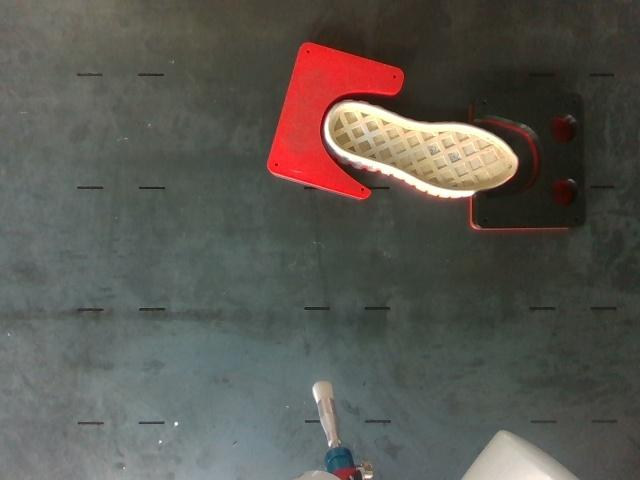shoes: (329, 102, 518, 191)
